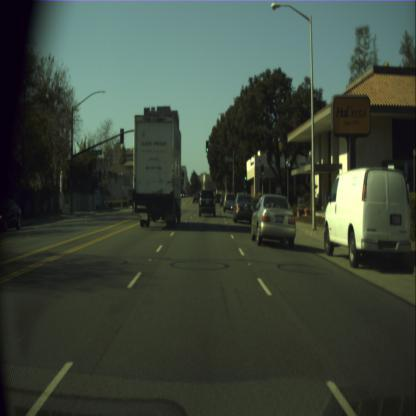Green: (206, 140, 209, 152), (261, 164, 264, 176), (244, 169, 247, 180)
